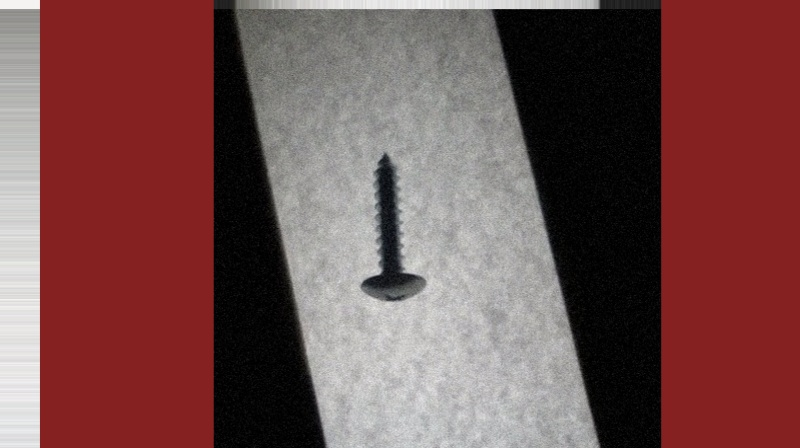S003: (356, 146, 427, 306)
